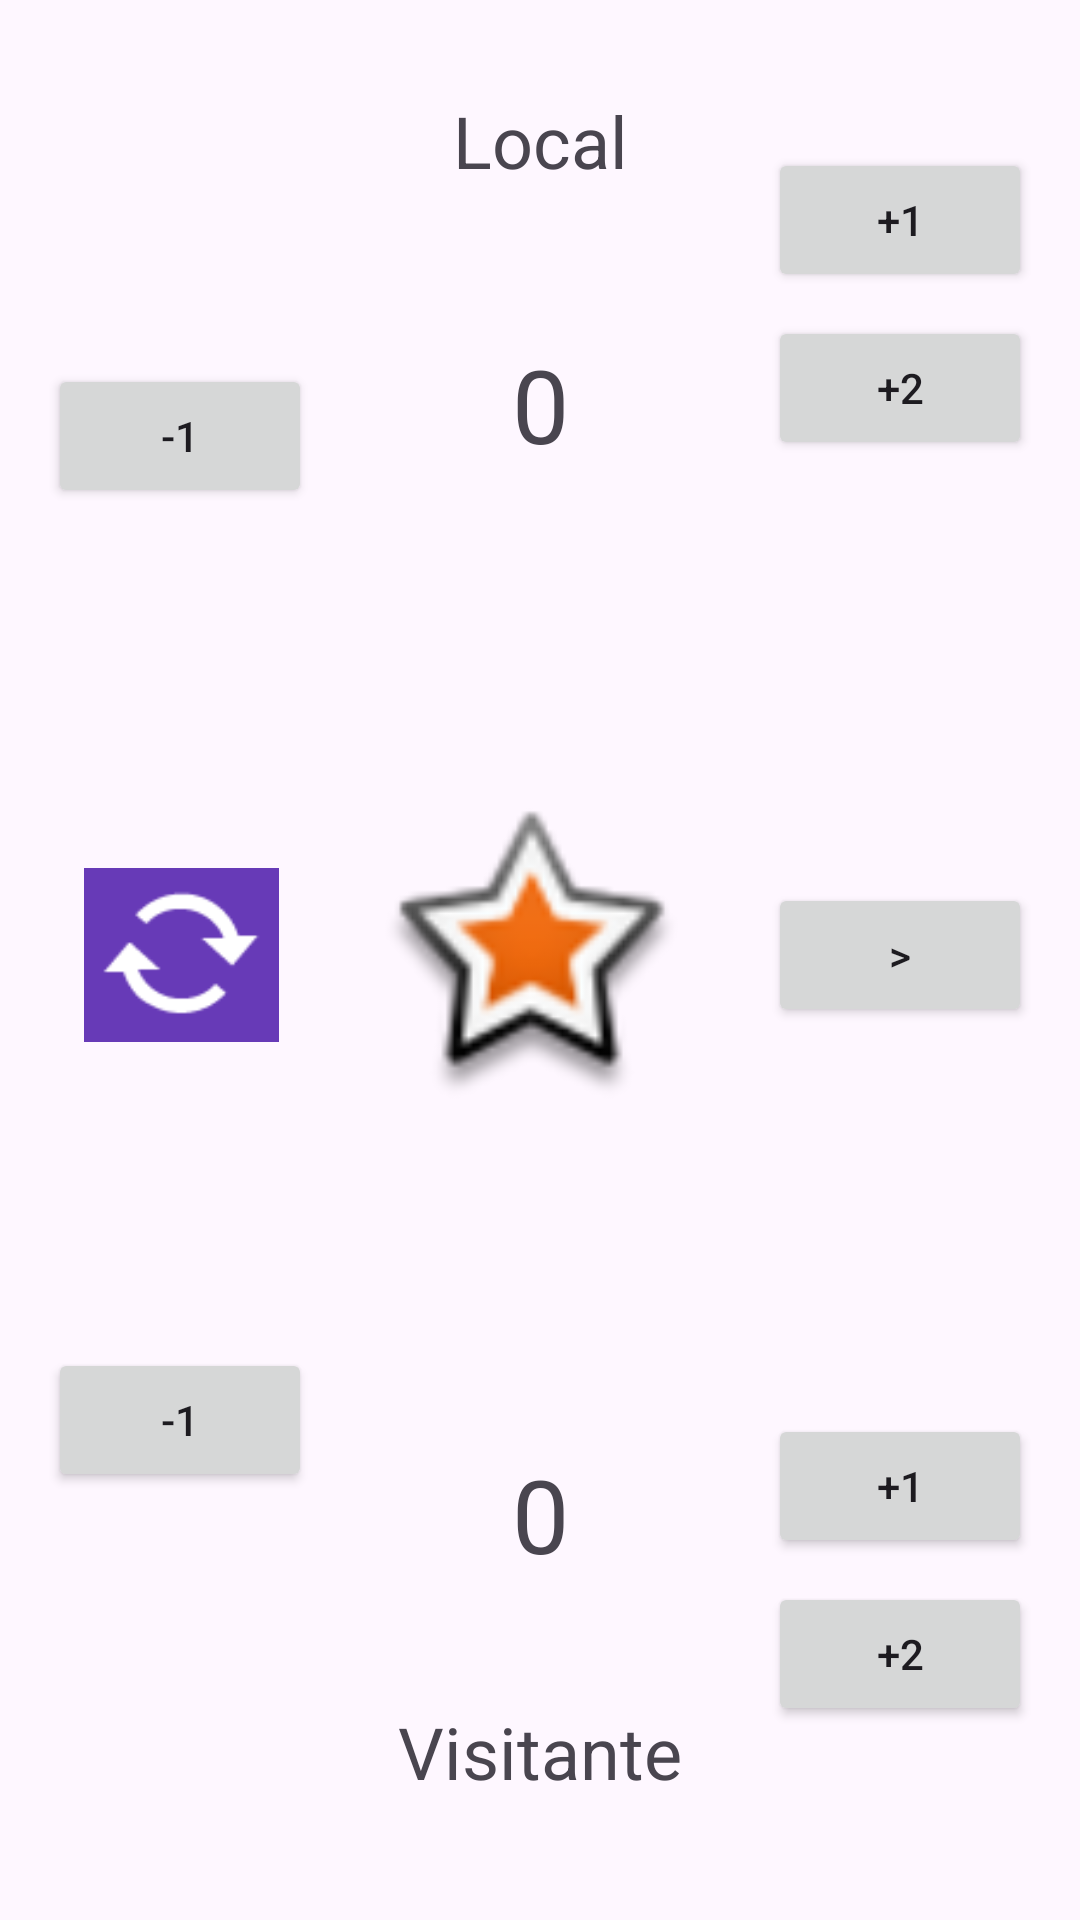

Named icons in this screenshot (1080*1920) and their bounding boxes, [x1,y1,x2,y2]:
star on: [399,812,665,1084]
sync noanim: [84,868,279,1042]
